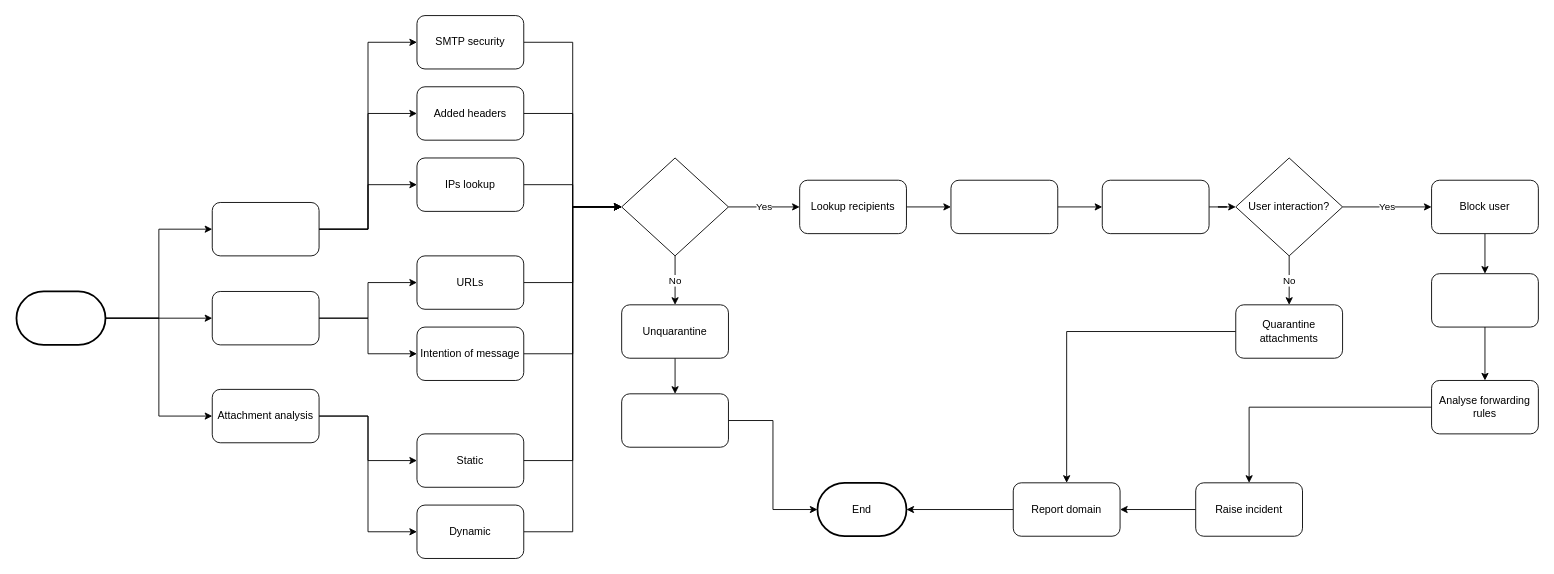
Some shapes in this 1554 by 574 pixel diagram are drawn without their labels. Here are the shapes that lost their labels. From the top down, the box of each, then its label:
(621, 157, 728, 256): Malicious?
(950, 179, 1058, 234): Quarantine email
(1101, 179, 1209, 234): Related IOCs
(211, 202, 319, 256): Header analysis
(15, 290, 106, 345): Start
(211, 291, 319, 345): Content analysis
(1431, 273, 1538, 327): Investigate sign in logs
(621, 393, 728, 447): Document evidences
